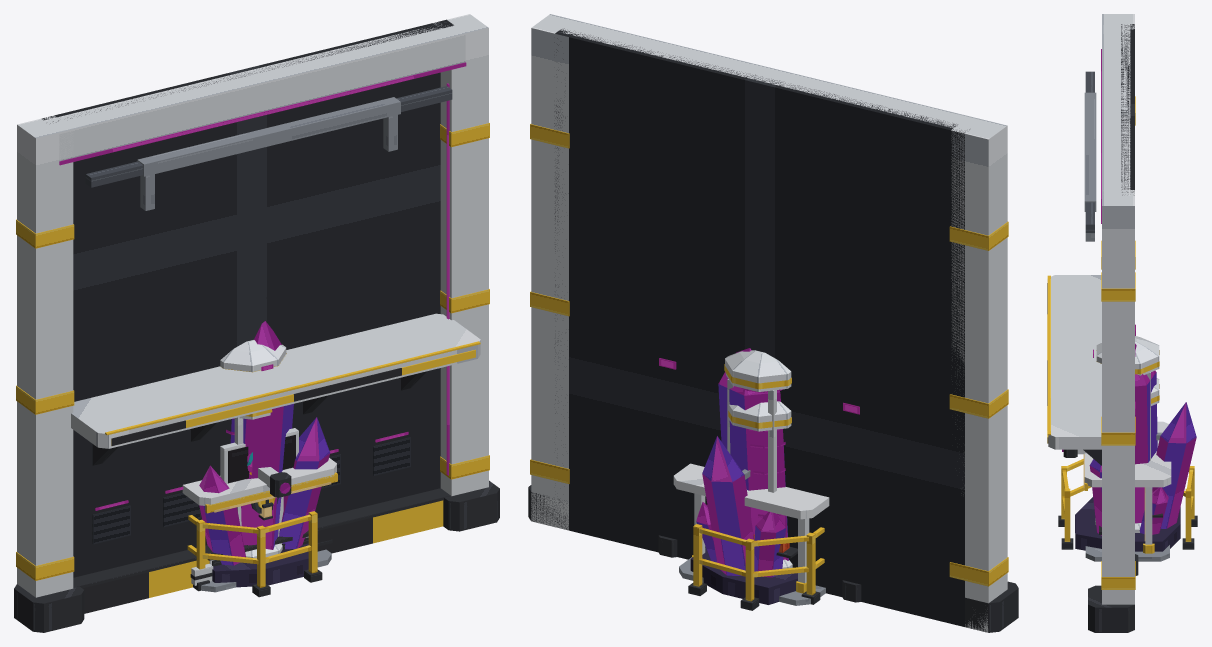
Rendered from refinery-props.glb.
The picture shows the model from 3 angles, left to right: view 1: azimuth 30°, elevation 25°; view 2: azimuth 150°, elevation 25°; view 3: azimuth 270°, elevation 25°; orthographic projection. The views are drawn at different scales.
Parts seen in each view (by area): view 1: Wall, Pylon, Lintel, Pylon.001, Deck, Plinth.001, Header, Main, PlinthTop, DeckStripe, Shard, PylonFoot (+21 smaller); view 2: Wall, Pylon, Pylon.001, Lintel, Shard.002, Main, Roof, Root, Cap.001, PylonFoot, Shard.003, Cap.002 (+4 smaller); view 3: Pylon.001, Deck, Lintel, Shard.002, Main, Wall, Root, PylonFoot.001, Roof, Header, Cap.001, DeckEdge (+11 smaller).
Part boxes in pixels (x1,y1,x2,y2): Wall: [42, 19, 453, 577]; Pylon: [17, 115, 73, 597]; Lintel: [43, 25, 465, 160]; Pylon.001: [433, 14, 488, 496]; Deck: [71, 313, 480, 448]; Plinth.001: [82, 500, 443, 613]; Header: [137, 97, 400, 176]; Main: [230, 321, 293, 549]; PlinthTop: [73, 488, 450, 588]; DeckStripe: [111, 349, 475, 445]; Shard: [279, 417, 330, 549]; PylonFoot: [14, 584, 84, 632]; Wall: [554, 28, 969, 626]; Pylon: [951, 116, 1007, 632]; Pylon.001: [531, 14, 573, 530]; Lintel: [559, 20, 982, 130]; Shard.002: [702, 436, 754, 575]; Main: [718, 348, 788, 560]; Roof: [673, 463, 829, 519]; Root: [690, 548, 797, 604]; Cap.001: [725, 350, 791, 391]; PylonFoot: [965, 581, 1018, 632]; Shard.003: [754, 511, 785, 577]; Cap.002: [729, 401, 791, 431]; Pylon.001: [1102, 190, 1134, 604]; Deck: [1048, 275, 1101, 449]; Lintel: [1102, 24, 1130, 195]; Shard.002: [1152, 402, 1196, 528]; Main: [1135, 343, 1157, 523]; Wall: [1121, 24, 1134, 195]; Root: [1075, 497, 1180, 551]; PylonFoot.001: [1088, 585, 1134, 632]; Roof: [1084, 421, 1171, 487]; Header: [1084, 92, 1096, 211]; Cap.001: [1096, 336, 1159, 375]; DeckEdge: [1047, 275, 1050, 435].
Size of the model in its own units: 20 by 20.3 by 6.42.
2 materials, 2 textured.
